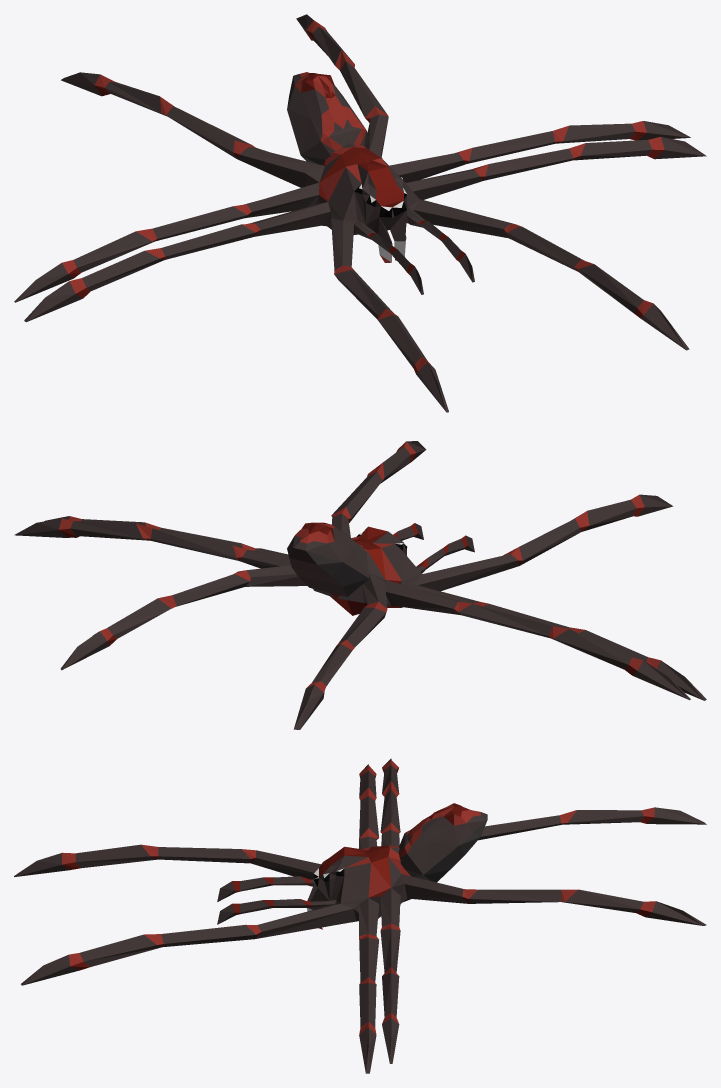
Rendered from venenatis.gltf.
The picture shows the model from 3 angles, top to bottom: view 1: azimuth 30°, elevation 25°; view 2: azimuth 150°, elevation 25°; view 3: azimuth 270°, elevation 25°; orthographic projection. The views are drawn at different scales.
Bounding box in the file's own units: 534 × 100 × 518.
1 material, 1 textured.
